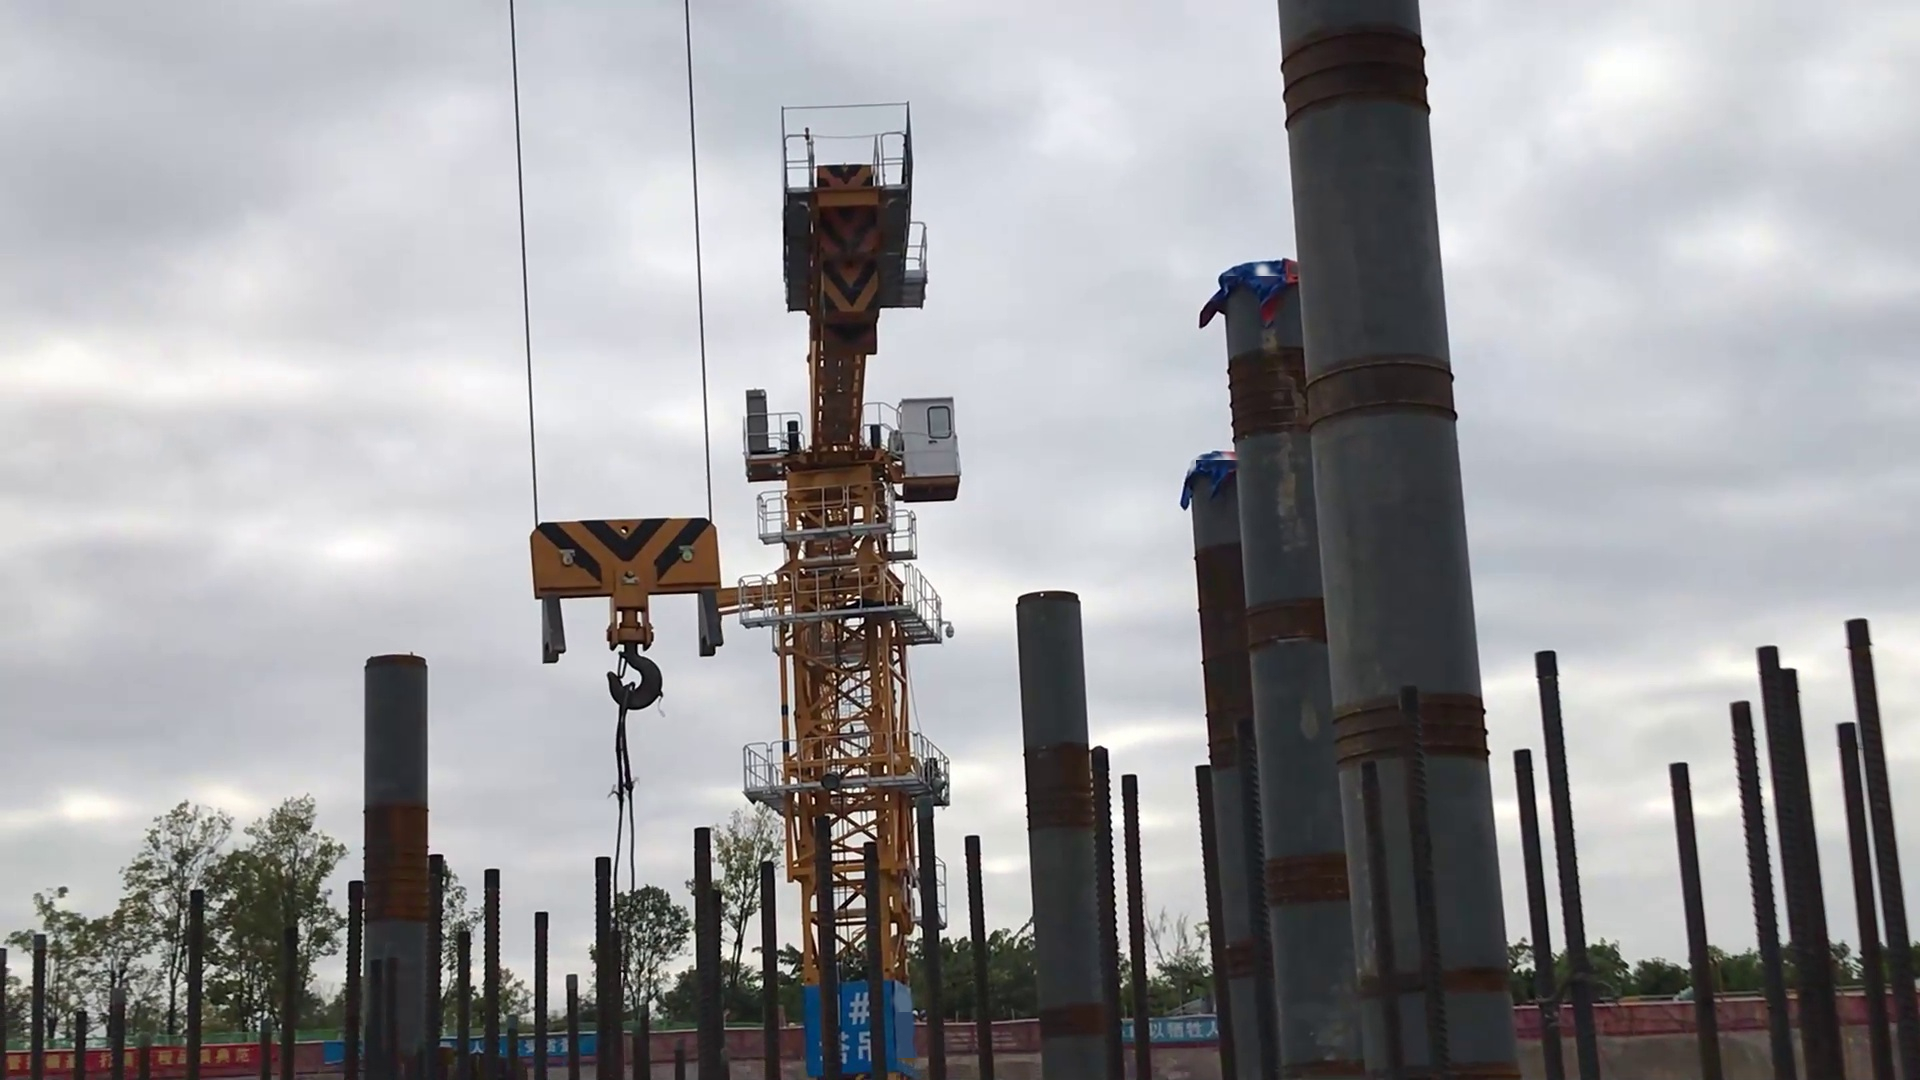fence: (11, 986, 1920, 1079)
hook: (518, 513, 721, 712)
slogan: (313, 1029, 608, 1065), (15, 1043, 293, 1077), (1113, 1007, 1230, 1044)
